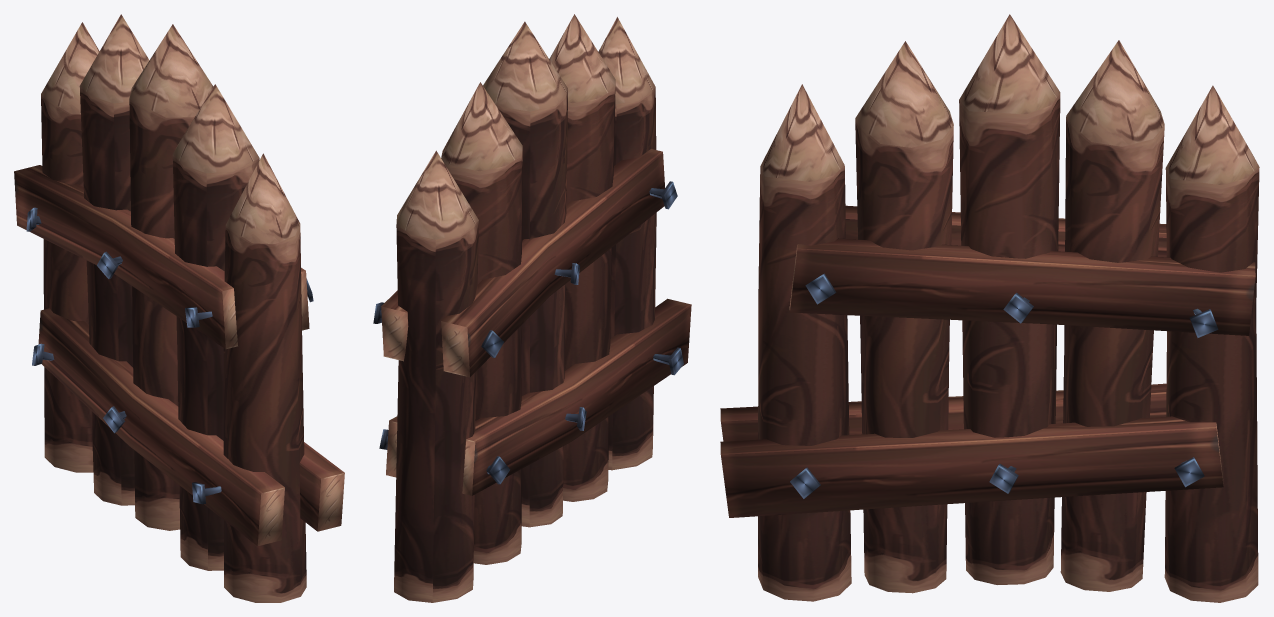
The model's file is wooden_wall_01.fbx.
3 views of the same model, side by side, from view 1: azimuth 30°, elevation 25°; view 2: azimuth 150°, elevation 25°; view 3: azimuth 270°, elevation 25° (orthographic). The views are drawn at different scales.
Visible parts, largest first — view 1: wooden_wall_01; view 2: wooden_wall_01; view 3: wooden_wall_01.
Boxes of the visible parts, left/top/right/bottom form: wooden_wall_01: left=14, top=14, right=344, bottom=602; wooden_wall_01: left=373, top=14, right=691, bottom=602; wooden_wall_01: left=720, top=14, right=1259, bottom=602.
Size of the model in its own units: 2.55 by 9.51 by 8.18.
